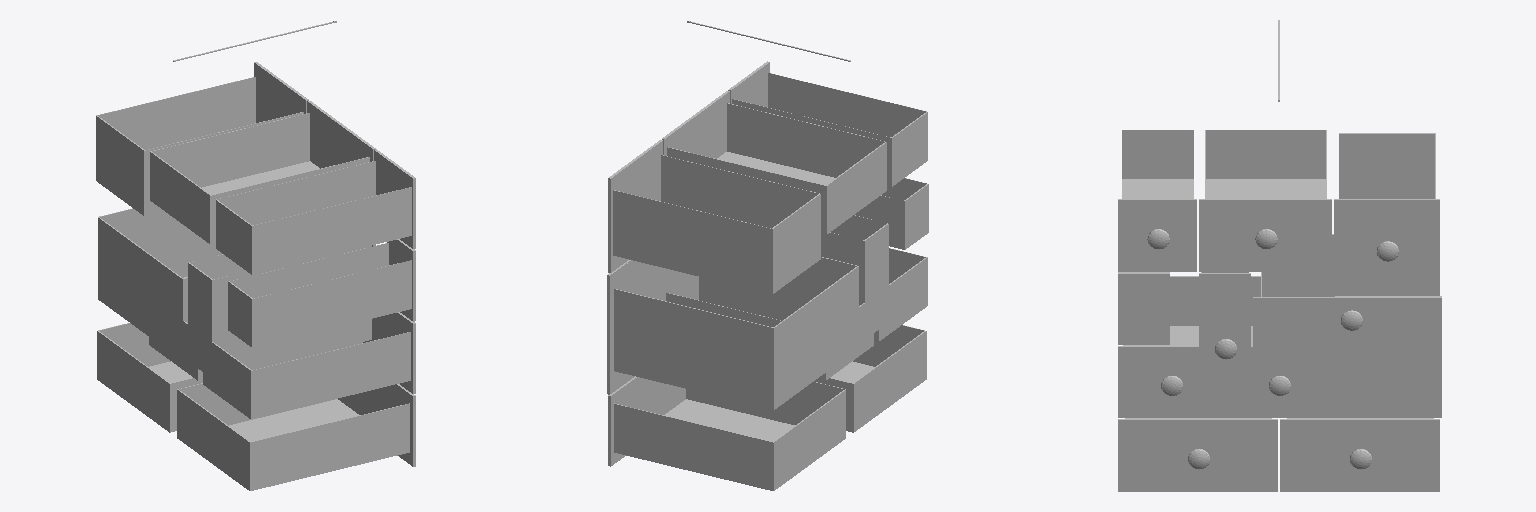
URDF robot description (my_urdf):
<?xml version='1.0' encoding='utf-8'?>
<robot name="my_urdf"><link name="base_link"><visual><origin xyz="0 0 0" rpy="0.0 0.0 0.0" /><material name="white"><color rgba="0.8 0.8 0.8 1" /></material><geometry><mesh filename="../meshes/cabinet.obj" scale="1 1 1" /></geometry></visual><collision><origin xyz="0 0 0" rpy="0.0 0.0 0.0" /><geometry><mesh filename="../meshes/cabinet.obj" scale="1 1 1" /></geometry></collision><inertial><mass value="1" /><inertia ixx="1e-4" ixy="0" ixz="0" iyy="1e-4" iyz="0" izz="1e-4" /></inertial></link><link name="drawer0"><visual><origin xyz="0 0 0" rpy="0 0 0" /><material name="white"><color rgba="0.8 0.8 0.8 1" /></material><geometry><mesh filename="../meshes/parts/drawer.obj" scale="1 0.98 0.98" /></geometry></visual><collision><origin xyz="0 0 0" rpy="0 0 0" /><geometry><mesh filename="../meshes/parts/drawer.obj" scale="1 0.98 0.98" /></geometry></collision><inertial><mass value="0.2" /><inertia ixx="1e-4" ixy="0" ixz="0" iyy="1e-4" iyz="0" izz="1e-4" /></inertial></link><joint name="drawer0_to_base_link" type="prismatic"><axis xyz="1 0 0" /><limit effort="5" lower="0" upper="0.4" velocity="2.283" /><origin xyz="0 0.0 0.75" rpy="0.0 0.0 0.0" /><parent link="base_link" /><child link="drawer0" /></joint><link name="drawer1"><visual><origin xyz="0 0 0" rpy="0 0 0" /><material name="white"><color rgba="0.8 0.8 0.8 1" /></material><geometry><mesh filename="../meshes/parts/drawer.obj" scale="1 1.98 0.98" /></geometry></visual><collision><origin xyz="0 0 0" rpy="0 0 0" /><geometry><mesh filename="../meshes/parts/drawer.obj" scale="1 1.98 0.98" /></geometry></collision><inertial><mass value="0.2" /><inertia ixx="1e-4" ixy="0" ixz="0" iyy="1e-4" iyz="0" izz="1e-4" /></inertial></link><joint name="drawer1_to_base_link" type="prismatic"><axis xyz="1 0 0" /><limit effort="5" lower="0" upper="0.4" velocity="2.283" /><origin xyz="0 0.5 0.0" rpy="0.0 0.0 0.0" /><parent link="base_link" /><child link="drawer1" /></joint><link name="doorR2"><visual><origin xyz="0 0 0" rpy="0 0 0" /><material name="white"><color rgba="0.8 0.8 0.8 1" /></material><geometry><mesh filename="../meshes/parts/doorR.obj" scale="1 1.3233333333333333 1.6566666666666667" /></geometry></visual><collision><origin xyz="0 0 0" rpy="0 0 0" /><geometry><mesh filename="../meshes/parts/doorR.obj" scale="1 1.3233333333333333 1.6566666666666667" /></geometry></collision><inertial><mass value="0.2" /><inertia ixx="1e-4" ixy="0" ixz="0" iyy="1e-4" iyz="0" izz="1e-4" /></inertial></link><joint name="doorR2_to_base_link" type="revolute"><axis xyz="0 0 1" /><limit effort="5" lower="0" upper="1.57" velocity="2.283" /><origin xyz="0 1.0 0.25" rpy="-0.0 -0.0 -0.0" /><parent link="base_link" /><child link="doorR2" /></joint><link name="drawer3"><visual><origin xyz="0 0 0" rpy="0 0 0" /><material name="white"><color rgba="0.8 0.8 0.8 1" /></material><geometry><mesh filename="../meshes/parts/drawer.obj" scale="1 1.98 0.98" /></geometry></visual><collision><origin xyz="0 0 0" rpy="0 0 0" /><geometry><mesh filename="../meshes/parts/drawer.obj" scale="1 1.98 0.98" /></geometry></collision><inertial><mass value="0.2" /><inertia ixx="1e-4" ixy="0" ixz="0" iyy="1e-4" iyz="0" izz="1e-4" /></inertial></link><joint name="drawer3_to_base_link" type="prismatic"><axis xyz="1 0 0" /><limit effort="5" lower="0" upper="0.4" velocity="2.283" /><origin xyz="0 0.0 0.0" rpy="0.0 0.0 0.0" /><parent link="base_link" /><child link="drawer3" /></joint><link name="drawer4"><visual><origin xyz="0 0 0" rpy="0 0 0" /><material name="white"><color rgba="0.8 0.8 0.8 1" /></material><geometry><mesh filename="../meshes/parts/drawer.obj" scale="1 0.6466666666666666 1.98" /></geometry></visual><collision><origin xyz="0 0 0" rpy="0 0 0" /><geometry><mesh filename="../meshes/parts/drawer.obj" scale="1 0.6466666666666666 1.98" /></geometry></collision><inertial><mass value="0.2" /><inertia ixx="1e-4" ixy="0" ixz="0" iyy="1e-4" iyz="0" izz="1e-4" /></inertial></link><joint name="drawer4_to_base_link" type="prismatic"><axis xyz="1 0 0" /><limit effort="5" lower="0" upper="0.4" velocity="2.283" /><origin xyz="0 0.25 0.25" rpy="0.0 0.0 0.0" /><parent link="base_link" /><child link="drawer4" /></joint><link name="drawer5"><visual><origin xyz="0 0 0" rpy="0 0 0" /><material name="white"><color rgba="0.8 0.8 0.8 1" /></material><geometry><mesh filename="../meshes/parts/drawer.obj" scale="1 0.6466666666666666 0.98" /></geometry></visual><collision><origin xyz="0 0 0" rpy="0 0 0" /><geometry><mesh filename="../meshes/parts/drawer.obj" scale="1 0.6466666666666666 0.98" /></geometry></collision><inertial><mass value="0.2" /><inertia ixx="1e-4" ixy="0" ixz="0" iyy="1e-4" iyz="0" izz="1e-4" /></inertial></link><joint name="drawer5_to_base_link" type="prismatic"><axis xyz="1 0 0" /><limit effort="5" lower="0" upper="0.4" velocity="2.283" /><origin xyz="0 0.0 0.5" rpy="0.0 0.0 0.0" /><parent link="base_link" /><child link="drawer5" /></joint><link name="drawer6"><visual><origin xyz="0 0 0" rpy="0 0 0" /><material name="white"><color rgba="0.8 0.8 0.8 1" /></material><geometry><mesh filename="../meshes/parts/drawer.obj" scale="1 1.3133333333333332 0.98" /></geometry></visual><collision><origin xyz="0 0 0" rpy="0 0 0" /><geometry><mesh filename="../meshes/parts/drawer.obj" scale="1 1.3133333333333332 0.98" /></geometry></collision><inertial><mass value="0.2" /><inertia ixx="1e-4" ixy="0" ixz="0" iyy="1e-4" iyz="0" izz="1e-4" /></inertial></link><joint name="drawer6_to_base_link" type="prismatic"><axis xyz="1 0 0" /><limit effort="5" lower="0" upper="0.4" velocity="2.283" /><origin xyz="0 0.0 0.25" rpy="0.0 0.0 0.0" /><parent link="base_link" /><child link="drawer6" /></joint><link name="drawer7"><visual><origin xyz="0 0 0" rpy="0 0 0" /><material name="white"><color rgba="0.8 0.8 0.8 1" /></material><geometry><mesh filename="../meshes/parts/drawer.obj" scale="1 2.3133333333333335 1.6466666666666667" /></geometry></visual><collision><origin xyz="0 0 0" rpy="0 0 0" /><geometry><mesh filename="../meshes/parts/drawer.obj" scale="1 2.3133333333333335 1.6466666666666667" /></geometry></collision><inertial><mass value="0.2" /><inertia ixx="1e-4" ixy="0" ixz="0" iyy="1e-4" iyz="0" izz="1e-4" /></inertial></link><joint name="drawer7_to_base_link" type="prismatic"><axis xyz="1 0 0" /><limit effort="5" lower="0" upper="0.4" velocity="2.283" /><origin xyz="0 0.4166666666666667 0.25" rpy="0.0 0.0 0.0" /><parent link="base_link" /><child link="drawer7" /></joint><link name="drawer8"><visual><origin xyz="0 0 0" rpy="0 0 0" /><material name="white"><color rgba="0.8 0.8 0.8 1" /></material><geometry><mesh filename="../meshes/parts/drawer.obj" scale="1 1.3133333333333332 0.98" /></geometry></visual><collision><origin xyz="0 0 0" rpy="0 0 0" /><geometry><mesh filename="../meshes/parts/drawer.obj" scale="1 1.3133333333333332 0.98" /></geometry></collision><inertial><mass value="0.2" /><inertia ixx="1e-4" ixy="0" ixz="0" iyy="1e-4" iyz="0" izz="1e-4" /></inertial></link><joint name="drawer8_to_base_link" type="prismatic"><axis xyz="1 0 0" /><limit effort="5" lower="0" upper="0.4" velocity="2.283" /><origin xyz="0 0.3333333333333333 0.25" rpy="0.0 0.0 0.0" /><parent link="base_link" /><child link="drawer8" /></joint><link name="drawer9"><visual><origin xyz="0 0 0" rpy="0 0 0" /><material name="white"><color rgba="0.8 0.8 0.8 1" /></material><geometry><mesh filename="../meshes/parts/drawer.obj" scale="1 1.6466666666666667 0.98" /></geometry></visual><collision><origin xyz="0 0 0" rpy="0 0 0" /><geometry><mesh filename="../meshes/parts/drawer.obj" scale="1 1.6466666666666667 0.98" /></geometry></collision><inertial><mass value="0.2" /><inertia ixx="1e-4" ixy="0" ixz="0" iyy="1e-4" iyz="0" izz="1e-4" /></inertial></link><joint name="drawer9_to_base_link" type="prismatic"><axis xyz="1 0 0" /><limit effort="5" lower="0" upper="0.4" velocity="2.283" /><origin xyz="0 0.25 0.75" rpy="0.0 0.0 0.0" /><parent link="base_link" /><child link="drawer9" /></joint><link name="drawer10"><visual><origin xyz="0 0 0" rpy="0 0 0" /><material name="white"><color rgba="0.8 0.8 0.8 1" /></material><geometry><mesh filename="../meshes/parts/drawer.obj" scale="1 1.3133333333333332 1.3133333333333332" /></geometry></visual><collision><origin xyz="0 0 0" rpy="0 0 0" /><geometry><mesh filename="../meshes/parts/drawer.obj" scale="1 1.3133333333333332 1.3133333333333332" /></geometry></collision><inertial><mass value="0.2" /><inertia ixx="1e-4" ixy="0" ixz="0" iyy="1e-4" iyz="0" izz="1e-4" /></inertial></link><joint name="drawer10_to_base_link" type="prismatic"><axis xyz="1 0 0" /><limit effort="5" lower="0" upper="0.4" velocity="2.283" /><origin xyz="0 0.6666666666666666 0.6666666666666666" rpy="0.0 0.0 0.0" /><parent link="base_link" /><child link="drawer10" /></joint><link name="knob11"><visual><origin xyz="0 0 0" rpy="0 0 0" /><material name="white"><color rgba="0.8 0.8 0.8 1" /></material><geometry><mesh filename="../meshes/parts/knob.obj" scale="1 1 1" /></geometry></visual><collision><origin xyz="0 0 0" rpy="0 0 0" /><geometry><mesh filename="../meshes/parts/knob.obj" scale="1 1 1" /></geometry></collision><inertial><mass value="0.2" /><inertia ixx="1e-4" ixy="0" ixz="0" iyy="1e-4" iyz="0" izz="1e-4" /></inertial></link><joint name="knob11_to_drawer0" type="fixed"><axis xyz="0 0 1" /><limit effort="5" lower="0" upper="0.4" velocity="2.283" /><origin xyz="0 0.125 0.125" rpy="1.5707963267948963 0.0 0.0" /><parent link="drawer0" /><child link="knob11" /></joint><link name="knob12"><visual><origin xyz="0 0 0" rpy="0 0 0" /><material name="white"><color rgba="0.8 0.8 0.8 1" /></material><geometry><mesh filename="../meshes/parts/knob.obj" scale="1 1 1" /></geometry></visual><collision><origin xyz="0 0 0" rpy="0 0 0" /><geometry><mesh filename="../meshes/parts/knob.obj" scale="1 1 1" /></geometry></collision><inertial><mass value="0.2" /><inertia ixx="1e-4" ixy="0" ixz="0" iyy="1e-4" iyz="0" izz="1e-4" /></inertial></link><joint name="knob12_to_drawer8" type="fixed"><axis xyz="0 0 1" /><limit effort="5" lower="0" upper="0.4" velocity="2.283" /><origin xyz="0 0.16666666666666666 0.125" rpy="1.5707963267948963 0.0 0.0" /><parent link="drawer8" /><child link="knob12" /></joint><link name="knob13"><visual><origin xyz="0 0 0" rpy="0 0 0" /><material name="white"><color rgba="0.8 0.8 0.8 1" /></material><geometry><mesh filename="../meshes/parts/knob.obj" scale="1 1 1" /></geometry></visual><collision><origin xyz="0 0 0" rpy="0 0 0" /><geometry><mesh filename="../meshes/parts/knob.obj" scale="1 1 1" /></geometry></collision><inertial><mass value="0.2" /><inertia ixx="1e-4" ixy="0" ixz="0" iyy="1e-4" iyz="0" izz="1e-4" /></inertial></link><joint name="knob13_to_drawer6" type="fixed"><axis xyz="0 0 1" /><limit effort="5" lower="0" upper="0.4" velocity="2.283" /><origin xyz="0 0.16666666666666666 0.125" rpy="1.5707963267948963 0.0 0.0" /><parent link="drawer6" /><child link="knob13" /></joint><link name="drawer14"><visual><origin xyz="0 0 0" rpy="0 0 0" /><material name="white"><color rgba="0.8 0.8 0.8 1" /></material><geometry><mesh filename="../meshes/parts/drawer.obj" scale="1 -0.02 -0.02" /></geometry></visual><collision><origin xyz="0 0 0" rpy="0 0 0" /><geometry><mesh filename="../meshes/parts/drawer.obj" scale="1 -0.02 -0.02" /></geometry></collision><inertial><mass value="0.2" /><inertia ixx="1e-4" ixy="0" ixz="0" iyy="1e-4" iyz="0" izz="1e-4" /></inertial></link><joint name="drawer14_to_drawer5" type="prismatic"><axis xyz="1 0 0" /><limit effort="5" lower="0" upper="0.4" velocity="2.283" /><origin xyz="0 0.5 0.8333333333333334" rpy="0.0 0.0 0.0" /><parent link="drawer5" /><child link="drawer14" /></joint><link name="knob15"><visual><origin xyz="0 0 0" rpy="0 0 0" /><material name="white"><color rgba="0.8 0.8 0.8 1" /></material><geometry><mesh filename="../meshes/parts/knob.obj" scale="1 1 1" /></geometry></visual><collision><origin xyz="0 0 0" rpy="0 0 0" /><geometry><mesh filename="../meshes/parts/knob.obj" scale="1 1 1" /></geometry></collision><inertial><mass value="0.2" /><inertia ixx="1e-4" ixy="0" ixz="0" iyy="1e-4" iyz="0" izz="1e-4" /></inertial></link><joint name="knob15_to_drawer4" type="fixed"><axis xyz="0 0 1" /><limit effort="5" lower="0" upper="0.4" velocity="2.283" /><origin xyz="0 0.08333333333333333 0.25" rpy="1.5707963267948963 0.0 0.0" /><parent link="drawer4" /><child link="knob15" /></joint><link name="knob16"><visual><origin xyz="0 0 0" rpy="0 0 0" /><material name="white"><color rgba="0.8 0.8 0.8 1" /></material><geometry><mesh filename="../meshes/parts/knob.obj" scale="1 1 1" /></geometry></visual><collision><origin xyz="0 0 0" rpy="0 0 0" /><geometry><mesh filename="../meshes/parts/knob.obj" scale="1 1 1" /></geometry></collision><inertial><mass value="0.2" /><inertia ixx="1e-4" ixy="0" ixz="0" iyy="1e-4" iyz="0" izz="1e-4" /></inertial></link><joint name="knob16_to_drawer3" type="fixed"><axis xyz="0 0 1" /><limit effort="5" lower="0" upper="0.4" velocity="2.283" /><origin xyz="0 0.25 0.125" rpy="1.5707963267948963 0.0 0.0" /><parent link="drawer3" /><child link="knob16" /></joint><link name="knob17"><visual><origin xyz="0 0 0" rpy="0 0 0" /><material name="white"><color rgba="0.8 0.8 0.8 1" /></material><geometry><mesh filename="../meshes/parts/knob.obj" scale="1 1 1" /></geometry></visual><collision><origin xyz="0 0 0" rpy="0 0 0" /><geometry><mesh filename="../meshes/parts/knob.obj" scale="1 1 1" /></geometry></collision><inertial><mass value="0.2" /><inertia ixx="1e-4" ixy="0" ixz="0" iyy="1e-4" iyz="0" izz="1e-4" /></inertial></link><joint name="knob17_to_doorR2" type="fixed"><axis xyz="1 0 0" /><limit effort="5" lower="0" upper="0.4" velocity="2.283" /><origin xyz="0 -0.2777777777777778 0.34722222222222227" rpy="0.0 0.0 0.0" /><parent link="doorR2" /><child link="knob17" /></joint><link name="knob18"><visual><origin xyz="0 0 0" rpy="0 0 0" /><material name="white"><color rgba="0.8 0.8 0.8 1" /></material><geometry><mesh filename="../meshes/parts/knob.obj" scale="1 1 1" /></geometry></visual><collision><origin xyz="0 0 0" rpy="0 0 0" /><geometry><mesh filename="../meshes/parts/knob.obj" scale="1 1 1" /></geometry></collision><inertial><mass value="0.2" /><inertia ixx="1e-4" ixy="0" ixz="0" iyy="1e-4" iyz="0" izz="1e-4" /></inertial></link><joint name="knob18_to_drawer1" type="fixed"><axis xyz="0 0 1" /><limit effort="5" lower="0" upper="0.4" velocity="2.283" /><origin xyz="0 0.25 0.125" rpy="1.5707963267948963 0.0 0.0" /><parent link="drawer1" /><child link="knob18" /></joint><link name="knob19"><visual><origin xyz="0 0 0" rpy="0 0 0" /><material name="white"><color rgba="0.8 0.8 0.8 1" /></material><geometry><mesh filename="../meshes/parts/knob.obj" scale="1 1 1" /></geometry></visual><collision><origin xyz="0 0 0" rpy="0 0 0" /><geometry><mesh filename="../meshes/parts/knob.obj" scale="1 1 1" /></geometry></collision><inertial><mass value="0.2" /><inertia ixx="1e-4" ixy="0" ixz="0" iyy="1e-4" iyz="0" izz="1e-4" /></inertial></link><joint name="knob19_to_drawer9" type="fixed"><axis xyz="0 0 1" /><limit effort="5" lower="0" upper="0.4" velocity="2.283" /><origin xyz="0 0.20833333333333334 0.125" rpy="1.5707963267948963 0.0 0.0" /><parent link="drawer9" /><child link="knob19" /></joint><link name="knob20"><visual><origin xyz="0 0 0" rpy="0 0 0" /><material name="white"><color rgba="0.8 0.8 0.8 1" /></material><geometry><mesh filename="../meshes/parts/knob.obj" scale="1 1 1" /></geometry></visual><collision><origin xyz="0 0 0" rpy="0 0 0" /><geometry><mesh filename="../meshes/parts/knob.obj" scale="1 1 1" /></geometry></collision><inertial><mass value="0.2" /><inertia ixx="1e-4" ixy="0" ixz="0" iyy="1e-4" iyz="0" izz="1e-4" /></inertial></link><joint name="knob20_to_drawer10" type="fixed"><axis xyz="0 0 1" /><limit effort="5" lower="0" upper="0.4" velocity="2.283" /><origin xyz="0 0.16666666666666666 0.16666666666666666" rpy="1.5707963267948963 0.0 0.0" /><parent link="drawer10" /><child link="knob20" /></joint></robot>

--- Render facts (derived) ---
The picture shows the robot from 3 angles, left to right: view 1: azimuth 30°, elevation 25°; view 2: azimuth 150°, elevation 25°; view 3: azimuth 270°, elevation 25°; orthographic projection.
Model my_urdf with 22 links and 21 joints (1 revolute, 11 prismatic, 9 fixed), rooted at base_link, posed all joints at 0.
Links seen in each view (by area): view 1: drawer3, drawer0, drawer9, drawer5, drawer10, drawer6, drawer7, drawer4, drawer1, drawer8; view 2: drawer7, drawer10, drawer1, drawer9, drawer0, drawer3, drawer4, drawer6, drawer5, drawer8, doorR2; view 3: drawer9, drawer10, doorR2, drawer1, drawer3, drawer0, drawer7, drawer6, drawer4, drawer5, drawer8.
Boxes of the visible links, x1,y1,x2,y2 form: drawer3: [177, 383, 415, 490]; drawer0: [216, 149, 415, 274]; drawer9: [150, 101, 375, 244]; drawer5: [228, 239, 415, 347]; drawer10: [96, 62, 308, 215]; drawer6: [203, 312, 415, 419]; drawer7: [98, 208, 221, 359]; drawer4: [188, 245, 375, 371]; drawer1: [97, 323, 202, 432]; drawer8: [149, 299, 202, 380]; drawer7: [611, 257, 858, 409]; drawer10: [608, 140, 820, 294]; drawer1: [608, 376, 845, 490]; drawer9: [662, 91, 886, 234]; drawer0: [728, 61, 927, 186]; drawer3: [814, 325, 926, 432]; drawer4: [821, 215, 888, 332]; drawer6: [874, 248, 927, 340]; drawer5: [855, 178, 928, 249]; drawer8: [664, 272, 873, 379]; doorR2: [607, 260, 631, 394]; drawer9: [1199, 130, 1331, 271]; drawer10: [1334, 133, 1439, 295]; doorR2: [1335, 296, 1441, 417]; drawer1: [1280, 418, 1439, 491]; drawer3: [1118, 418, 1277, 491]; drawer0: [1118, 130, 1196, 271]; drawer7: [1253, 234, 1334, 417]; drawer6: [1118, 276, 1223, 417]; drawer4: [1199, 272, 1250, 417]; drawer5: [1118, 272, 1169, 344]; drawer8: [1226, 276, 1331, 417].
Bounding box of the posed robot: 0.6304 × 1 × 1.33 m (x, y, z).
21 mesh visuals loaded from 4 distinct referenced files (3 OBJ); not drawn: 1 (reference not matched to a file when rendering).